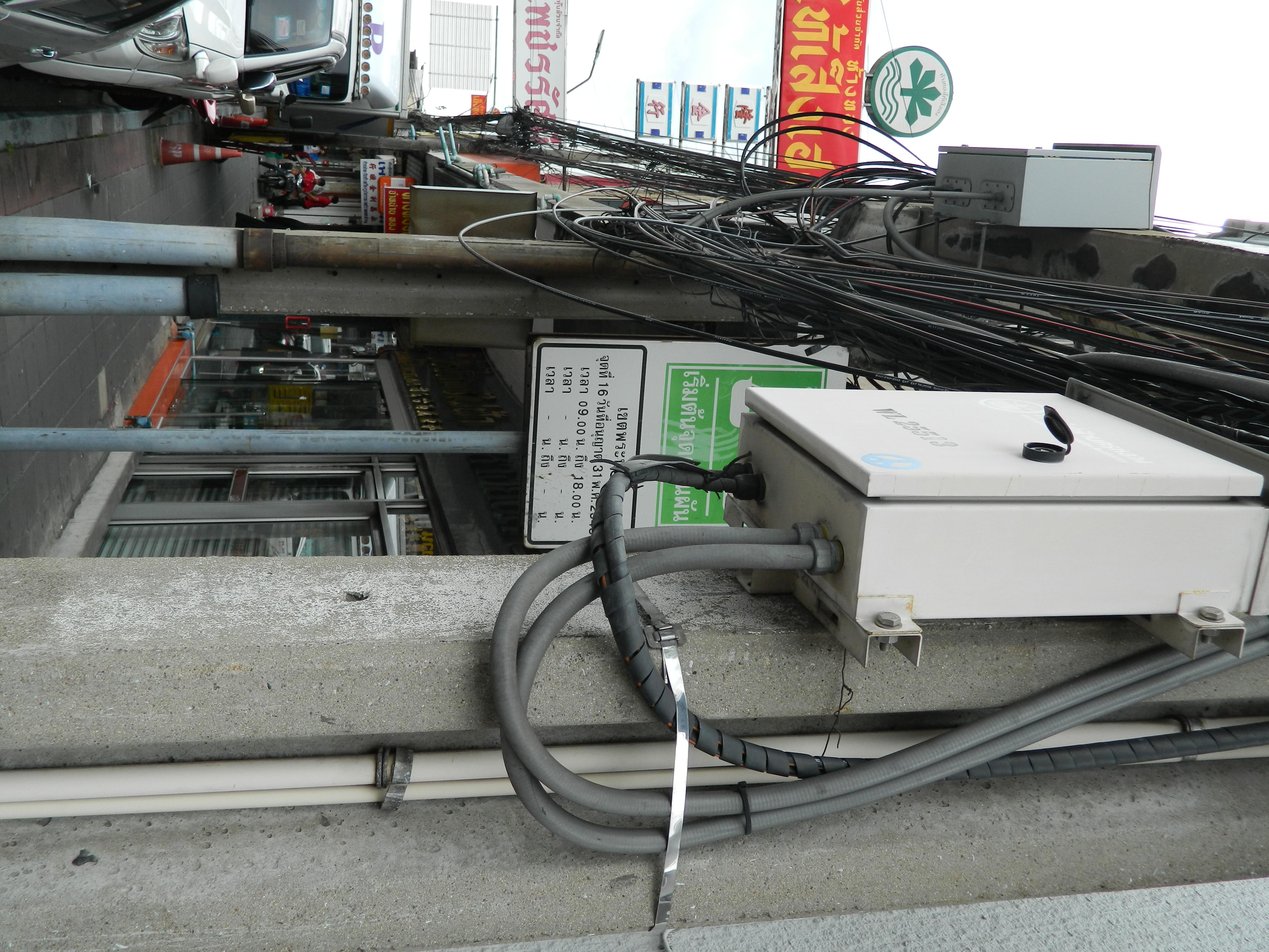wires-only: (224, 251, 468, 725)
